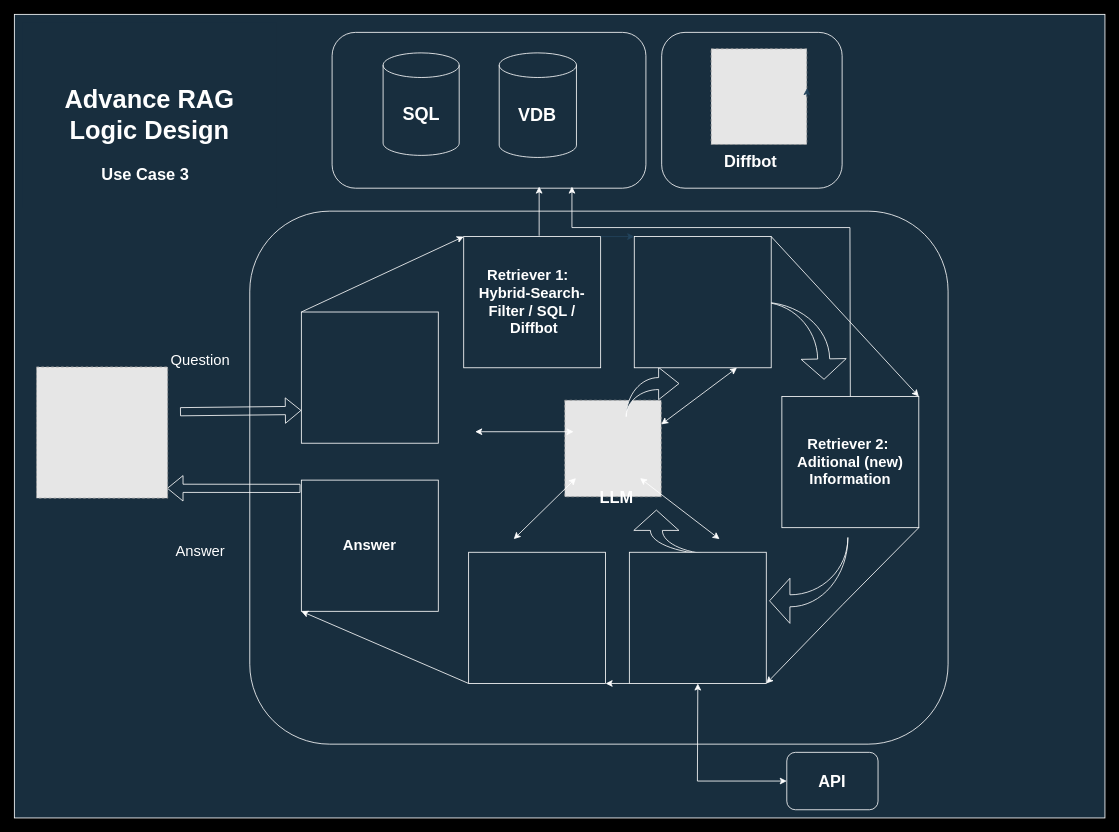
The diagram is 1119 pixels wide and 832 high, and some of its shapes have lost their labels. Grey dashed boxes stand in for pictures. Each missing label, with the centre of its shape:
Augmentation Agents and API: (x=697, y=617)
Generation for Answer Query: (x=537, y=617)
Generation for Content Evaluation: (x=702, y=302)
Query Expansion -Enrichment: (x=369, y=377)
